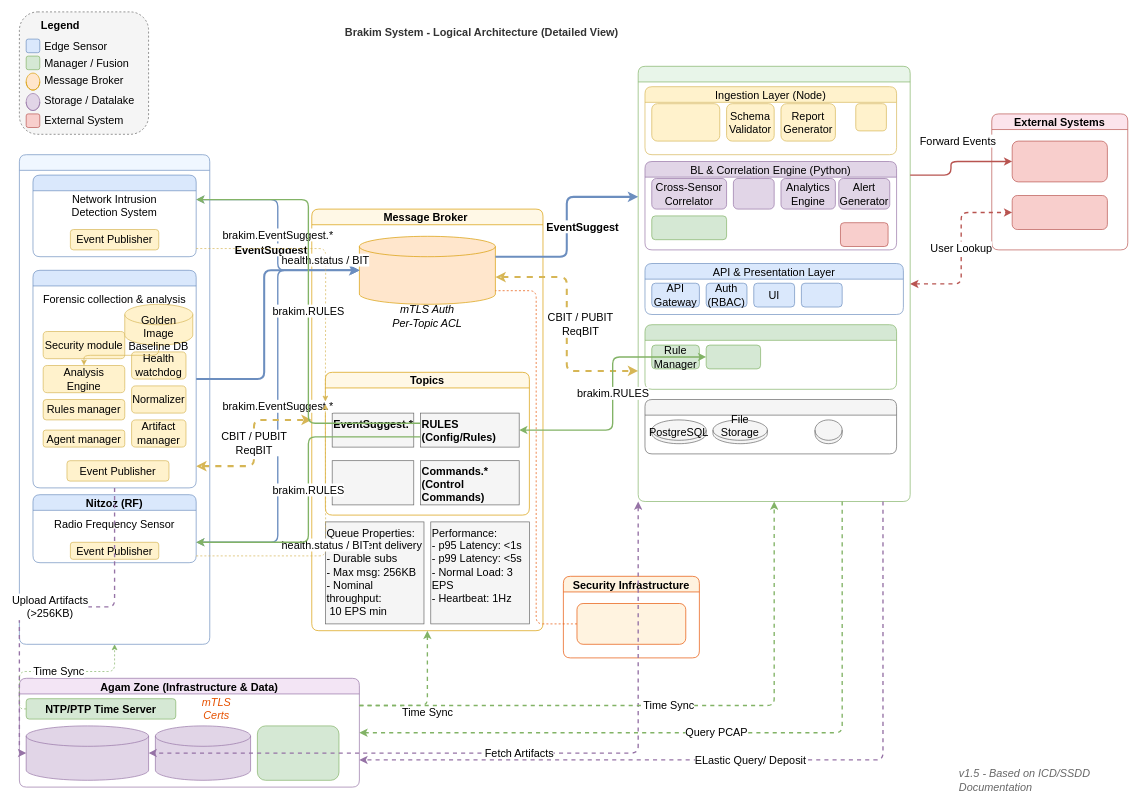
Image size: 1140x805. Some labels were removed from this diagram. Here are the shapes that lost their labels. From the top down, the box of each, then its label:
(651, 103, 720, 141): Pubsub In/Di/gestion
(1012, 140, 1107, 182): QRadar SIEM ( Syslog over TLS )
(733, 178, 774, 209): Rule Engine
(1012, 195, 1107, 230): Active Directory (LDAP)
(32, 174, 196, 257): Sufa (NIDS)
(651, 215, 727, 240): Health Monitor
(840, 222, 888, 247): QRadar Forwarder
(359, 236, 495, 304): Apache RabbitMQ Central Pub/Sub Broker
(638, 66, 910, 502): Aluma - Fusion Engine & Manager
(706, 344, 761, 369): Config Distributor
(644, 324, 897, 389): Config & Rule Distribution
(32, 270, 196, 488): Nadan (Forensic)
(19, 154, 210, 644): Sensors
(644, 399, 897, 454): Storage Layer
(332, 460, 414, 505): BIT.*
(576, 603, 686, 644): Brakim Internal CA (mTLS Certificates)
(26, 725, 149, 780): Datalake (Artifacts, PCAP)
(155, 725, 251, 780): Elasticsearch (Logs/Search)
(257, 725, 339, 780): Arkime (Packet Capture & Query)
